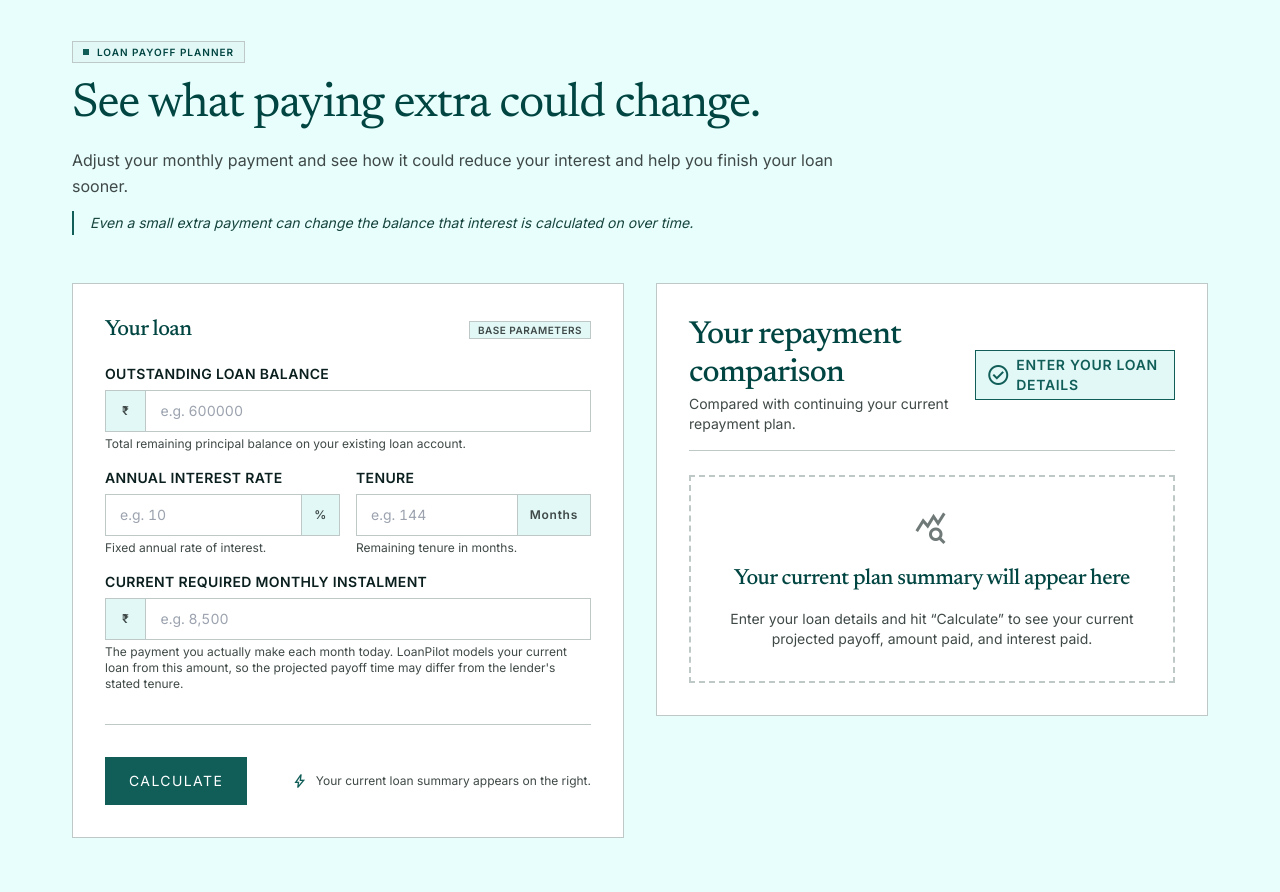
Test: EMI guidance and auto-scroll › shows the calculated EMI beside the instalment field after the baseline calculates
Type "8000" into the field labelled "Current required monthly instalment" at (368, 619), box top-left (146, 599), bottom-right (590, 639)
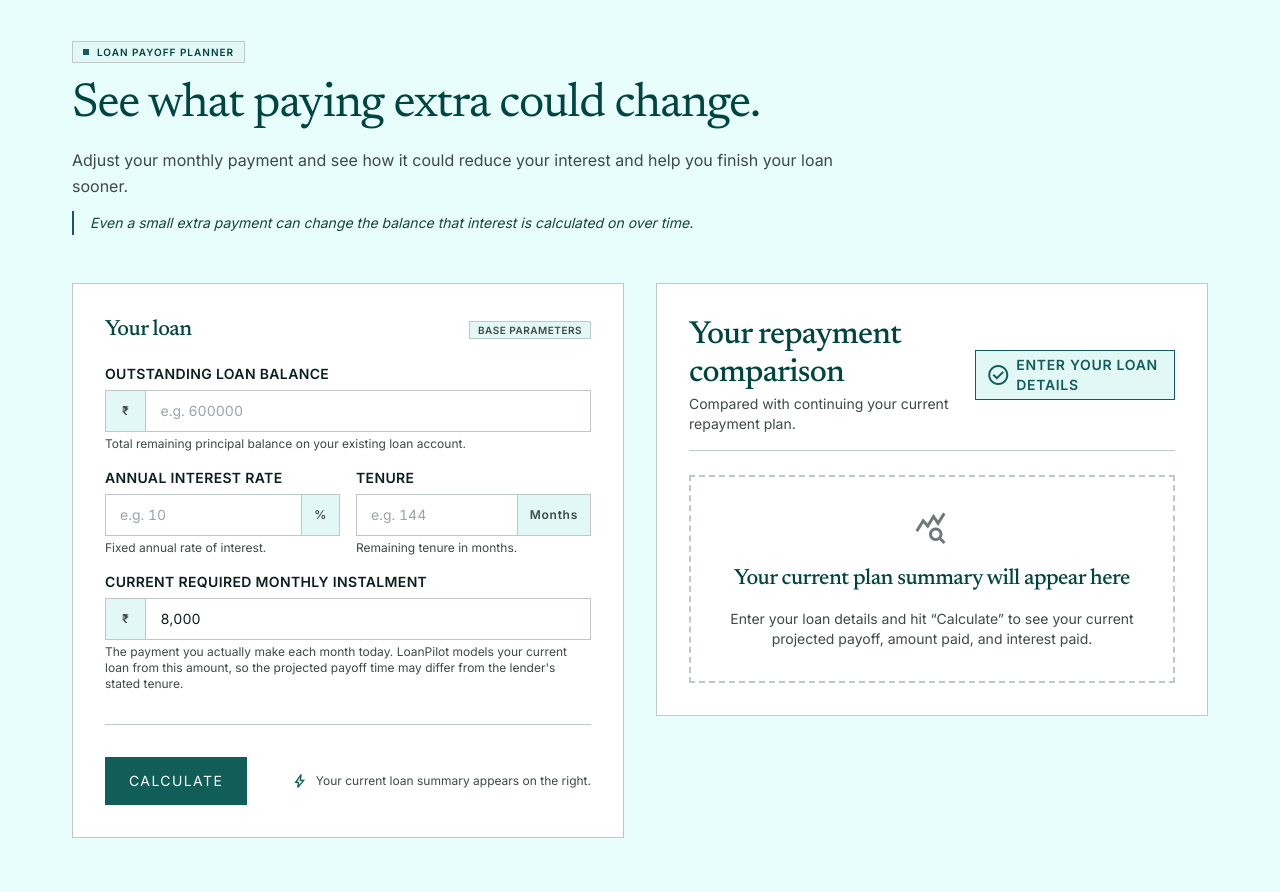
Type "600000" into the field labelled "Outstanding loan balance" at (368, 411), box top-left (146, 391), bottom-right (590, 431)
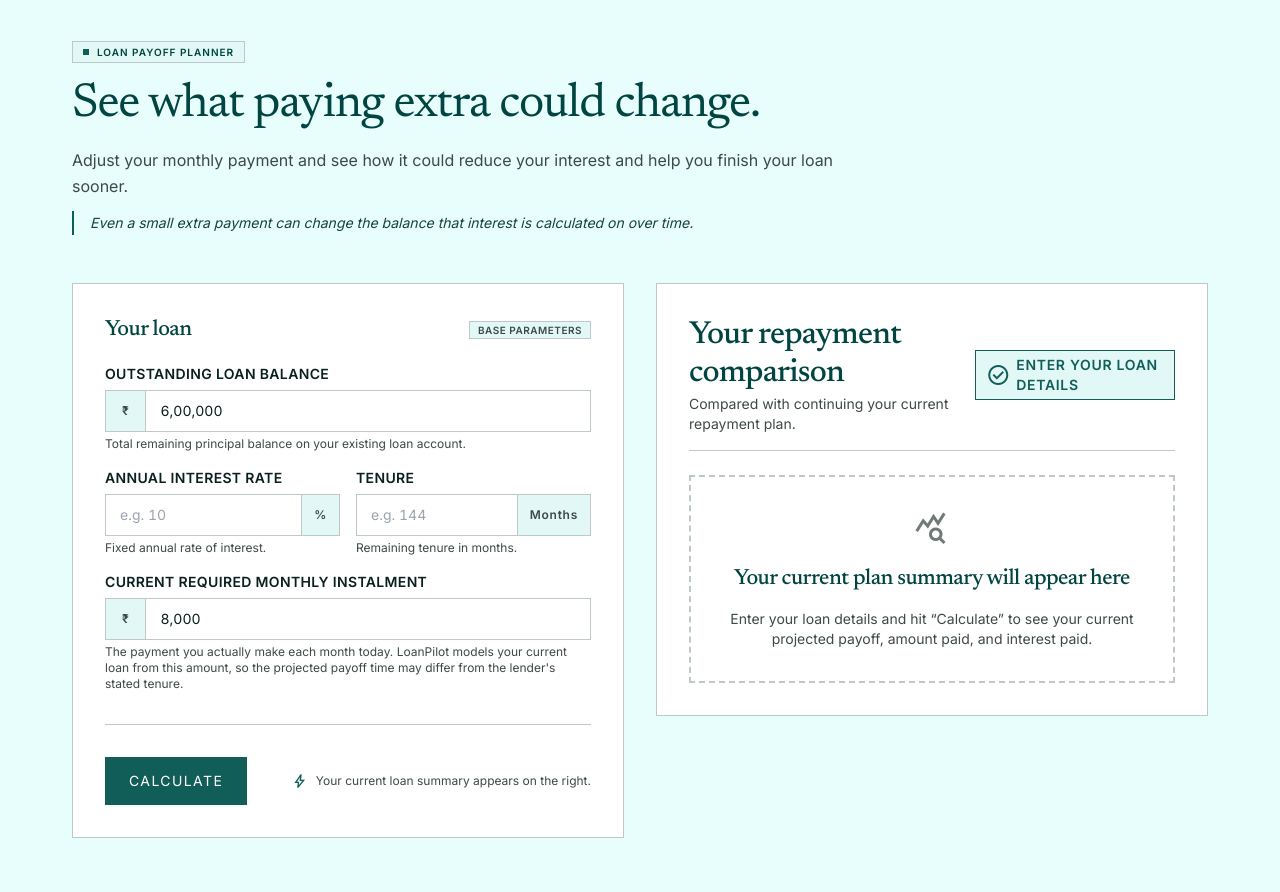
Type "8.5" into the field labelled "Annual interest rate" at (204, 515), box top-left (106, 495), bottom-right (301, 535)
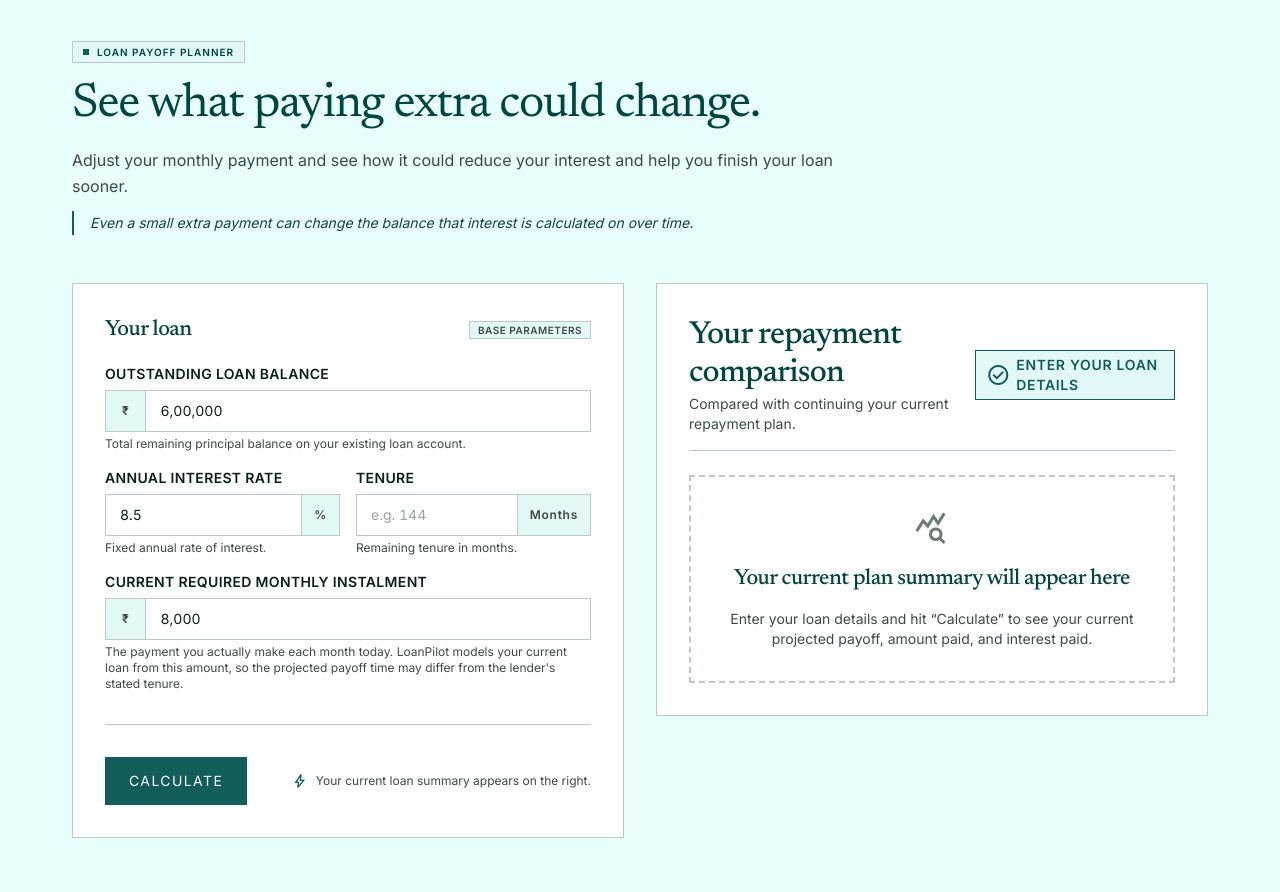
Type "180" into the field labelled "Tenure" at (437, 515), box top-left (357, 495), bottom-right (517, 535)
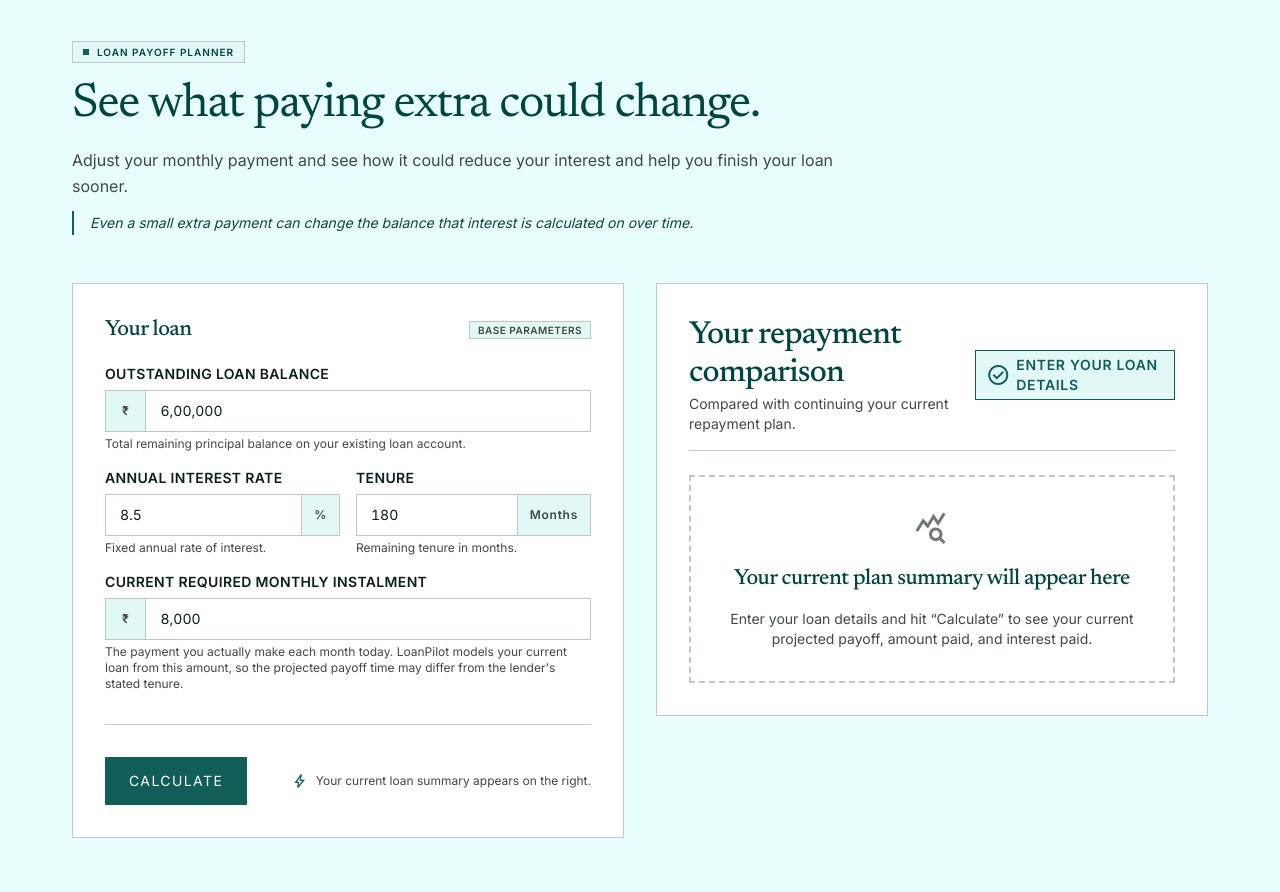
Click the button "Calculate" at (176, 781), box top-left (105, 757), bottom-right (247, 805)
(page scrolled)
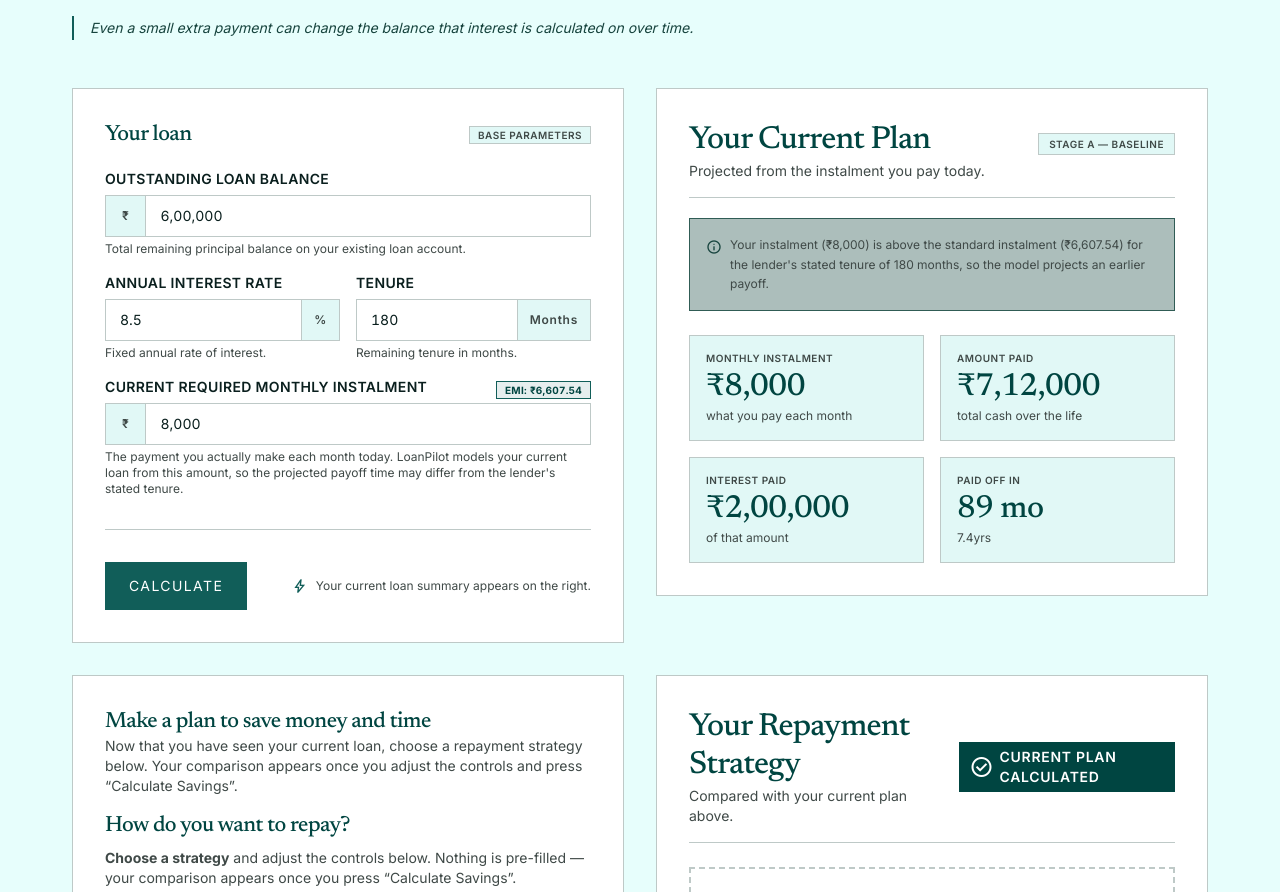
Expected: the heading "Your Current Plan" is shown, top-left (689, 124), bottom-right (930, 156)
Expected: the text "EMI: ₹6,607.54" is shown, top-left (496, 381), bottom-right (591, 399)
